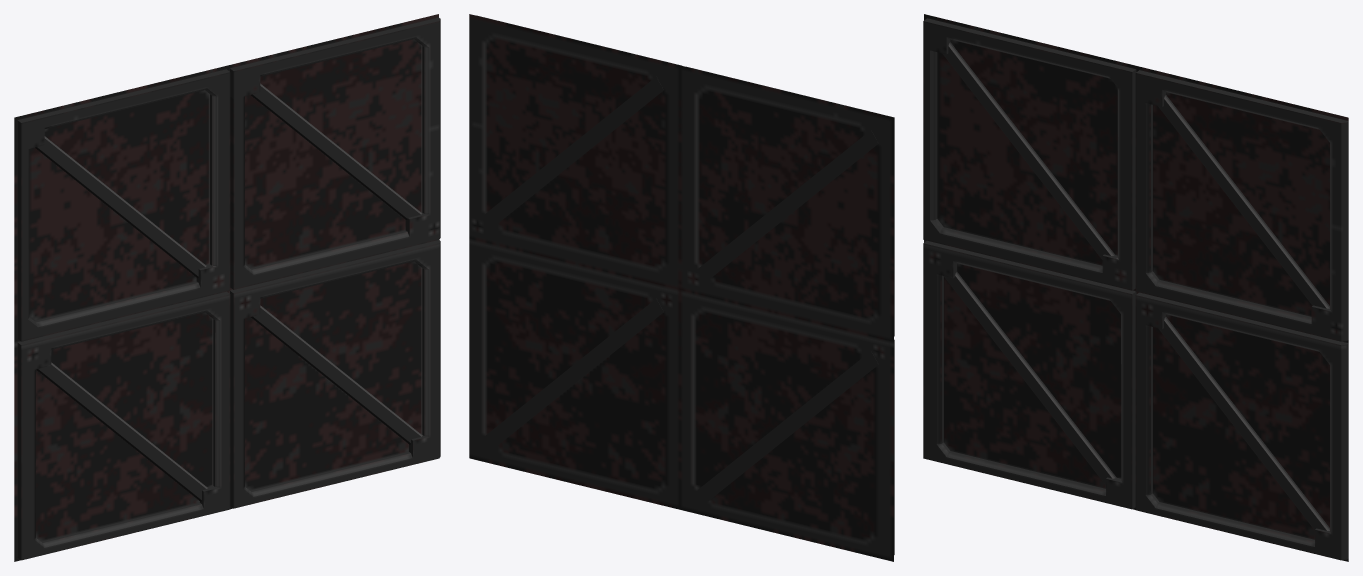
Rendered from maint3_1.fbx.
The picture shows the model from 3 angles, left to right: view 1: azimuth 30°, elevation 25°; view 2: azimuth 150°, elevation 25°; view 3: azimuth 330°, elevation 25°; orthographic projection.
Visible parts, largest first — view 1: maint3_1_mesh; view 2: maint3_1_mesh; view 3: maint3_1_mesh.
Boxes of the visible parts, box(x1,y1,x2,y2) form: maint3_1_mesh: box(14, 14, 440, 561); maint3_1_mesh: box(469, 14, 894, 561); maint3_1_mesh: box(923, 14, 1348, 561).
Size of the model in its own units: 256 by 256 by 4.11.
